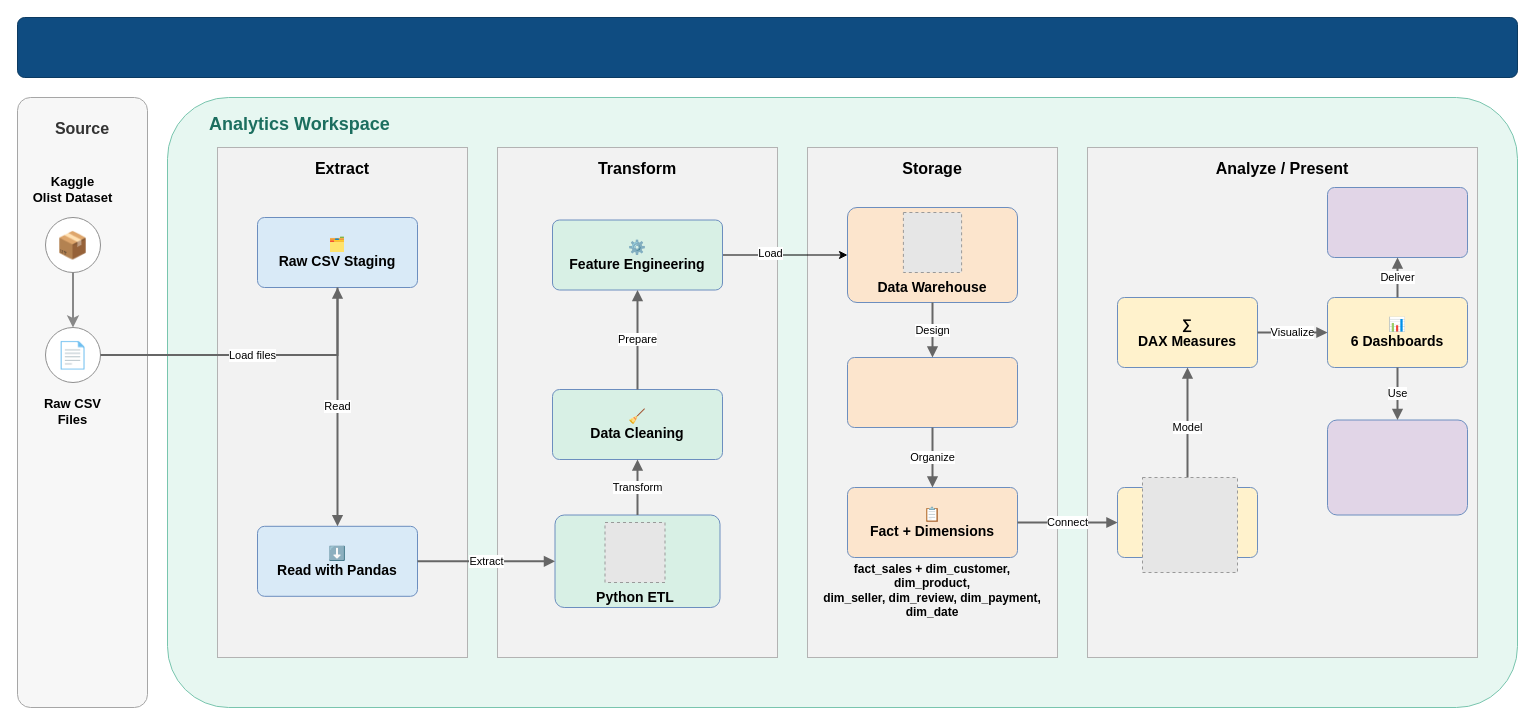
This 1535x725 diagram has some shape labels left out. Grey dashed boxes stand in for pictures. The shapes that lost their labels are listed below. From the top down, each one's box as (x1, y1, x2, y2) in pixels, then its label:
(16, 16, 1518, 78): 🛒 Olist E-commerce Analytics Pipeline
(1326, 186, 1468, 258): 👥 Business Insights
(846, 356, 1018, 428): ⭐ Star Schema
(1326, 419, 1468, 515): 🧠 Techniques KPI, Heatmap, Box Plot, Jitter, Drill Through
